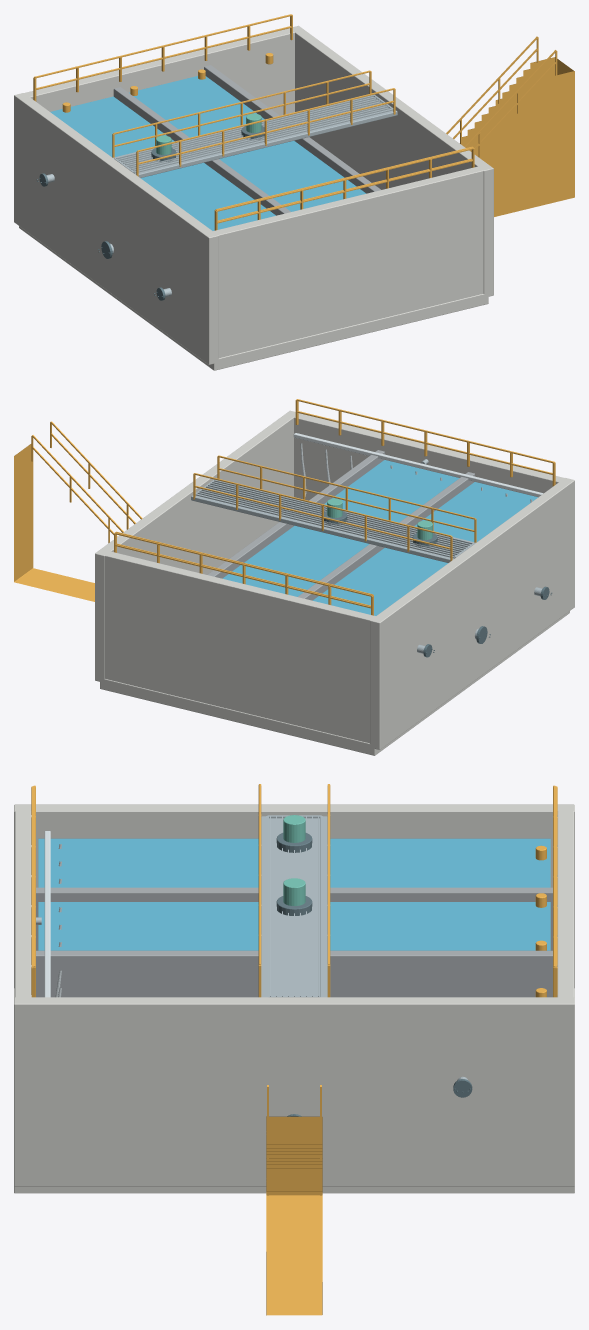
The picture shows the model from 3 angles, top to bottom: view 1: azimuth 30°, elevation 25°; view 2: azimuth 150°, elevation 25°; view 3: azimuth 270°, elevation 25°; orthographic projection. The views are drawn at different scales.
Visible parts, largest first — view 1: render-batch-5, render-batch-7, render-batch-1, render-batch-4, render-batch-3, render-batch-0, render-batch-2; view 2: render-batch-5, render-batch-1, render-batch-7, render-batch-4, render-batch-3, render-batch-6, render-batch-0, render-batch-2; view 3: render-batch-5, render-batch-1, render-batch-3, render-batch-7, render-batch-4, render-batch-6, render-batch-0, render-batch-2.
Boxes of the visible parts, x1,y1,x2,y2 form: render-batch-5: (14, 25, 493, 370); render-batch-7: (33, 14, 574, 230); render-batch-1: (50, 76, 365, 230); render-batch-4: (46, 94, 397, 296); render-batch-3: (113, 65, 380, 215); render-batch-0: (36, 126, 264, 300); render-batch-2: (156, 113, 261, 154); render-batch-5: (95, 410, 574, 755); render-batch-1: (223, 460, 537, 615); render-batch-7: (14, 399, 555, 615); render-batch-4: (191, 459, 542, 653); render-batch-3: (207, 450, 474, 600); render-batch-6: (293, 433, 543, 502); render-batch-0: (324, 511, 552, 657); render-batch-2: (327, 498, 432, 539); render-batch-5: (14, 804, 574, 1193); render-batch-1: (38, 838, 550, 950); render-batch-3: (36, 887, 552, 997); render-batch-7: (31, 784, 557, 1315); render-batch-4: (36, 815, 468, 1080); render-batch-6: (44, 831, 61, 997); render-batch-0: (276, 833, 472, 1116); render-batch-2: (283, 815, 305, 905).
Bounding box in the file's own units: 20.82 × 6.64 × 15.
